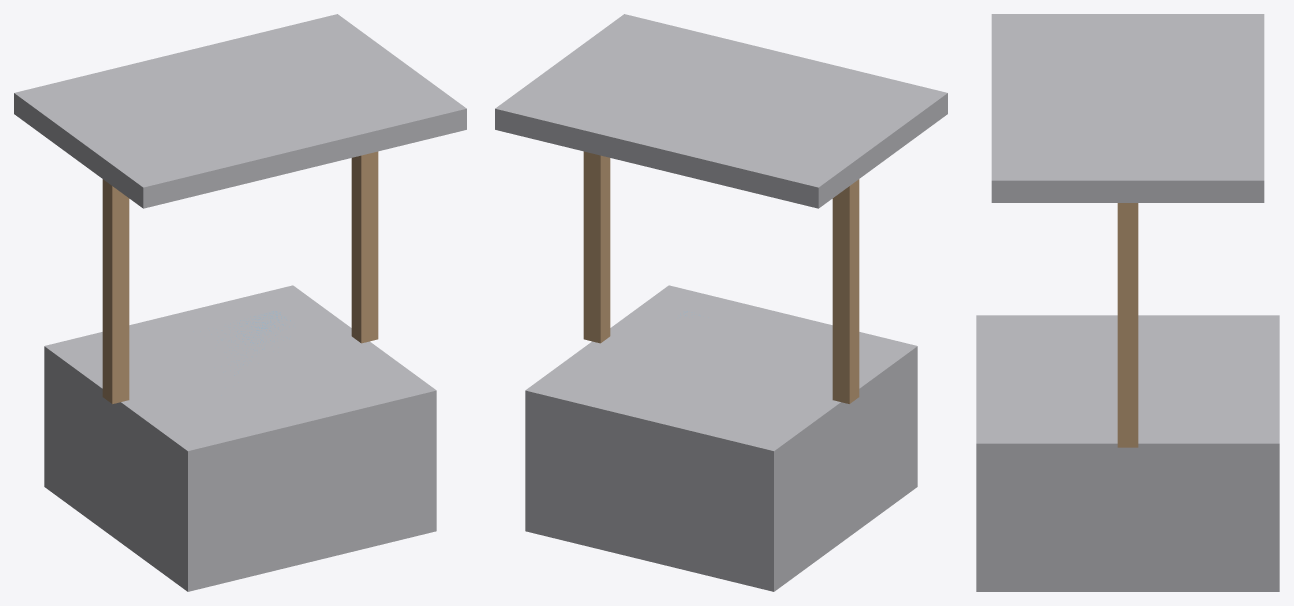
File: Prop_Water_AMF_Well_V7.glb
3 renders of one model, left to right at view 1: azimuth 30°, elevation 25°; view 2: azimuth 150°, elevation 25°; view 3: azimuth 270°, elevation 25°, orthographic. The views are drawn at different scales.
Visible parts, largest first — view 1: Prop_Water_AMF_Well_V7; view 2: Prop_Water_AMF_Well_V7; view 3: Prop_Water_AMF_Well_V7.
Boxes of the visible parts, x1,y1,x2,y2 form: Prop_Water_AMF_Well_V7: (14,14,466,591); Prop_Water_AMF_Well_V7: (495,14,947,591); Prop_Water_AMF_Well_V7: (976,14,1279,591).
Bounding box in the file's own units: 1.92 × 2.32 × 1.48.
